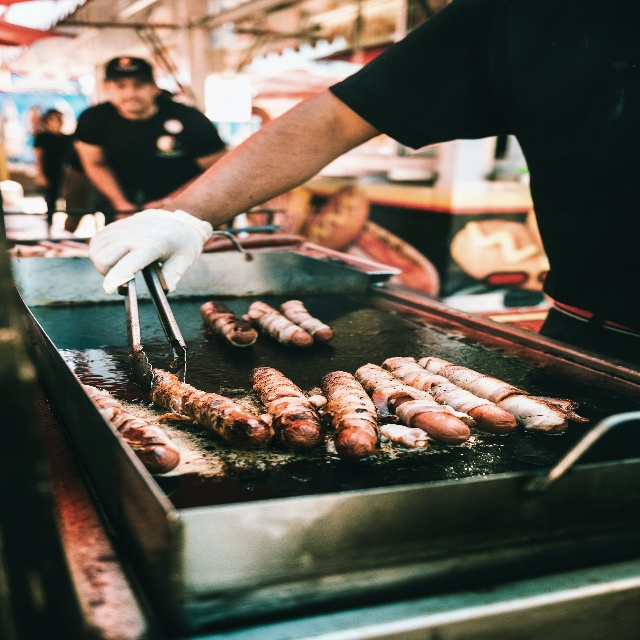Guantes: (88, 208, 212, 294)
